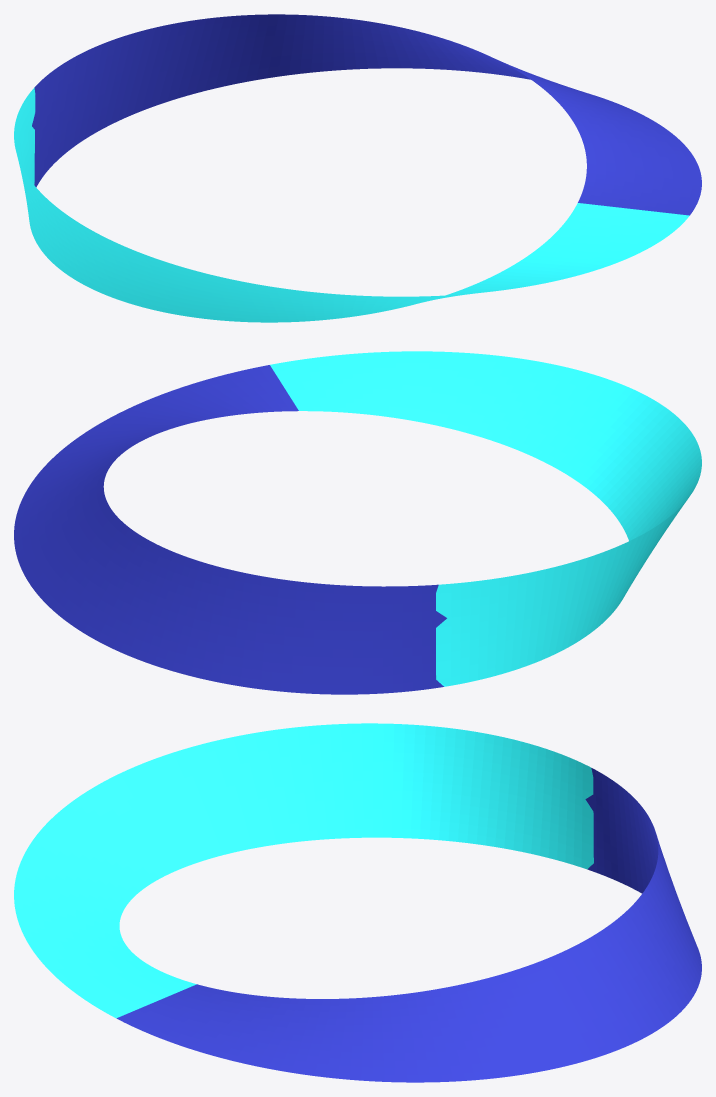
File: mobius-body.glb
3 views of the same model, one above another, from view 1: azimuth 30°, elevation 25°; view 2: azimuth 150°, elevation 25°; view 3: azimuth 270°, elevation 25° (orthographic). The views are drawn at different scales.
Parts seen in each view (by area): view 1: MobiusBody_StaticClosed; view 2: MobiusBody_StaticClosed; view 3: MobiusBody_StaticClosed.
Boxes of the visible parts, box(x1,y1,x2,y2) form: MobiusBody_StaticClosed: box(14, 14, 701, 322); MobiusBody_StaticClosed: box(14, 351, 701, 694); MobiusBody_StaticClosed: box(14, 723, 701, 1082).
Bounding box in the file's own units: 4.09 × 0.68 × 4.09.
